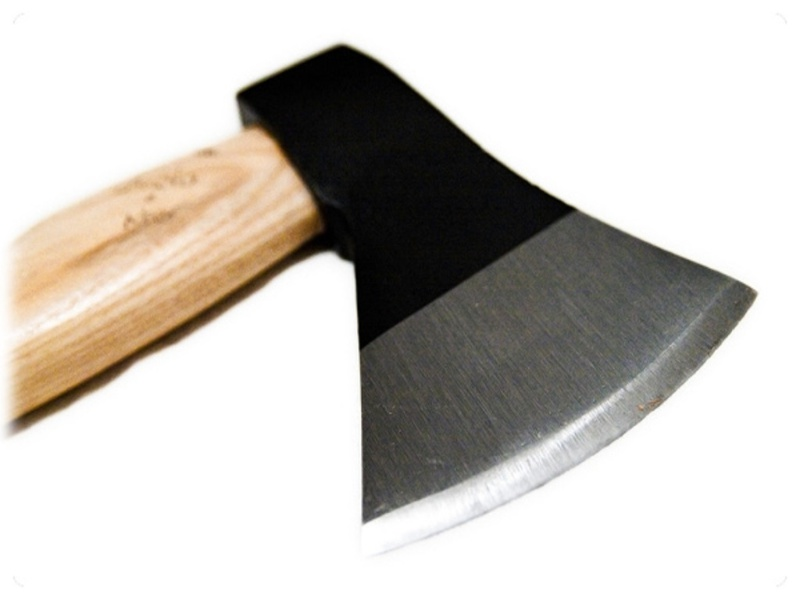axe: (1, 31, 765, 530)
knife: (1, 41, 760, 528)
